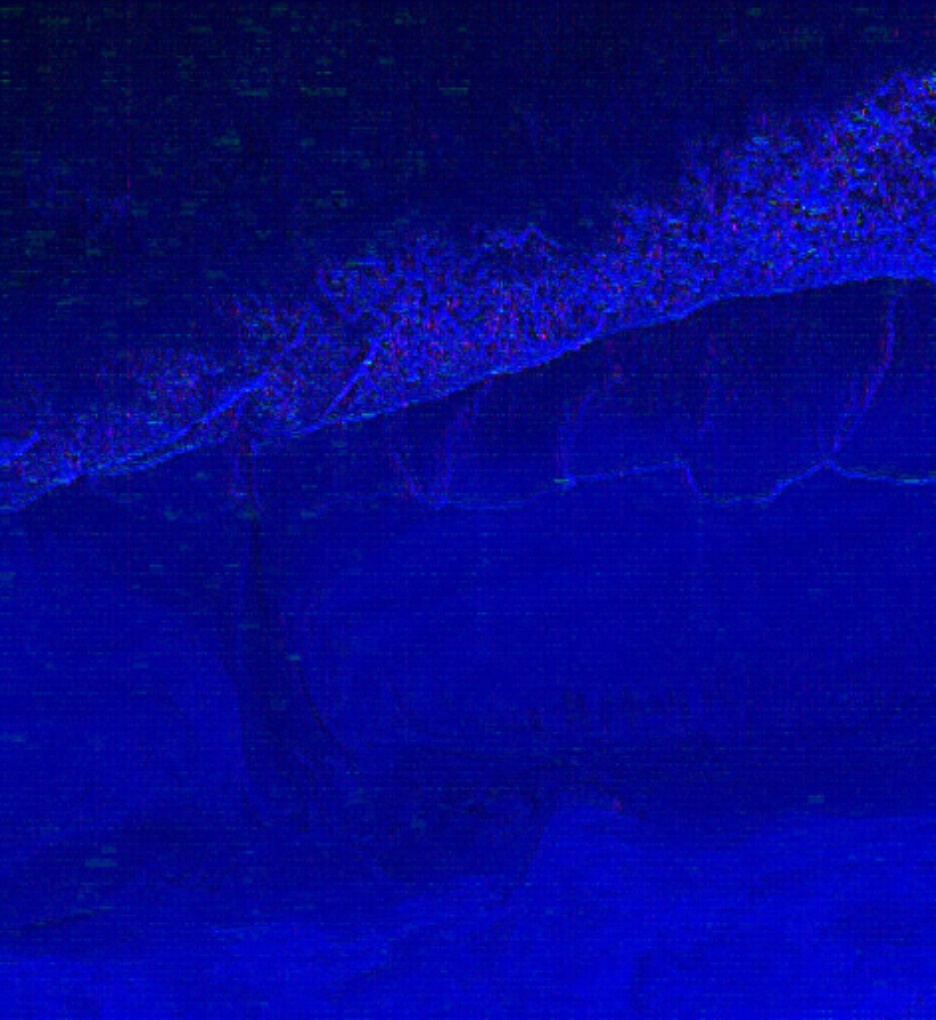rip_current: (163, 306, 291, 489)
